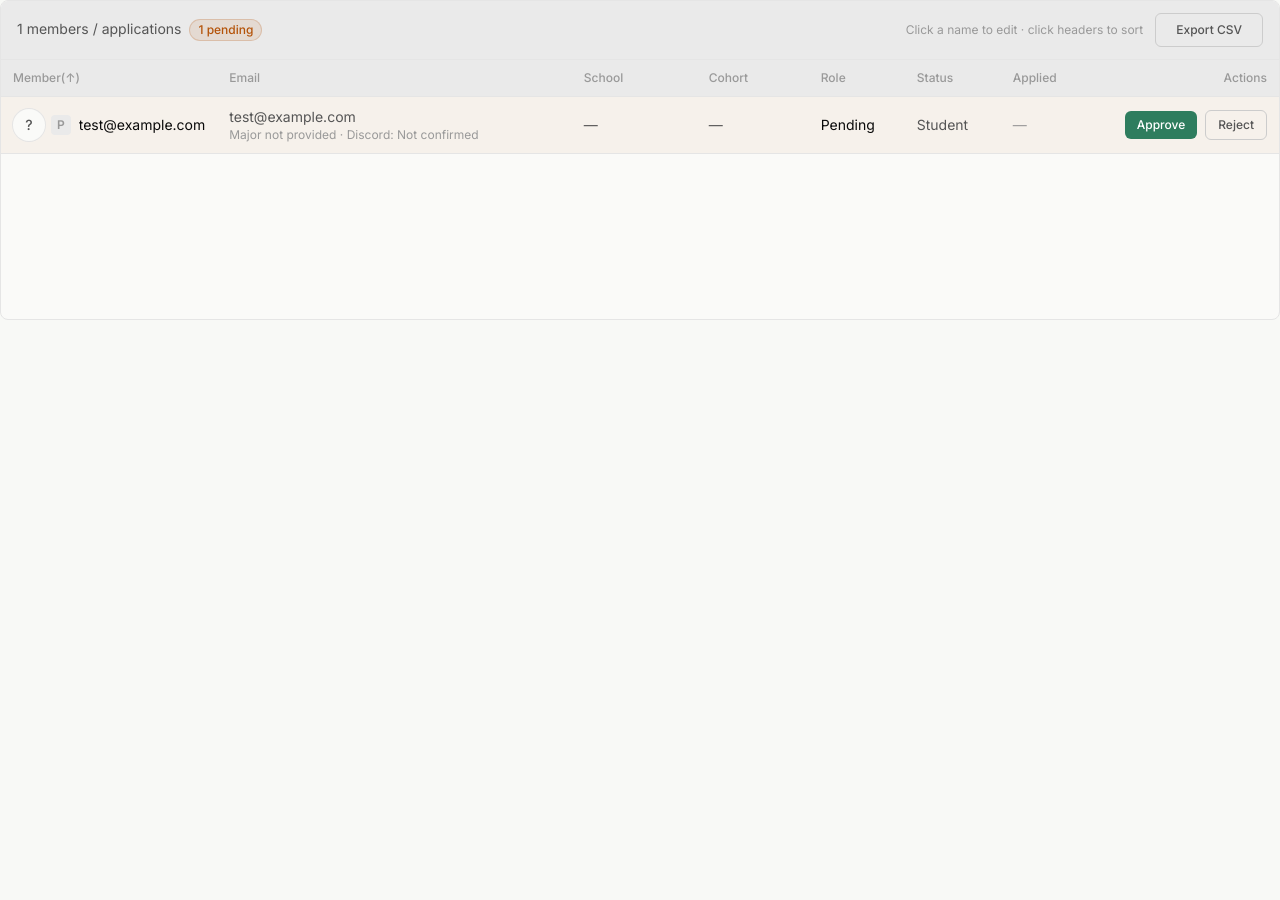
Test: rejection requires a reason and keeps it available when saving fails
Click the button "Reject": (1236, 125) [1205,110,1267,140]
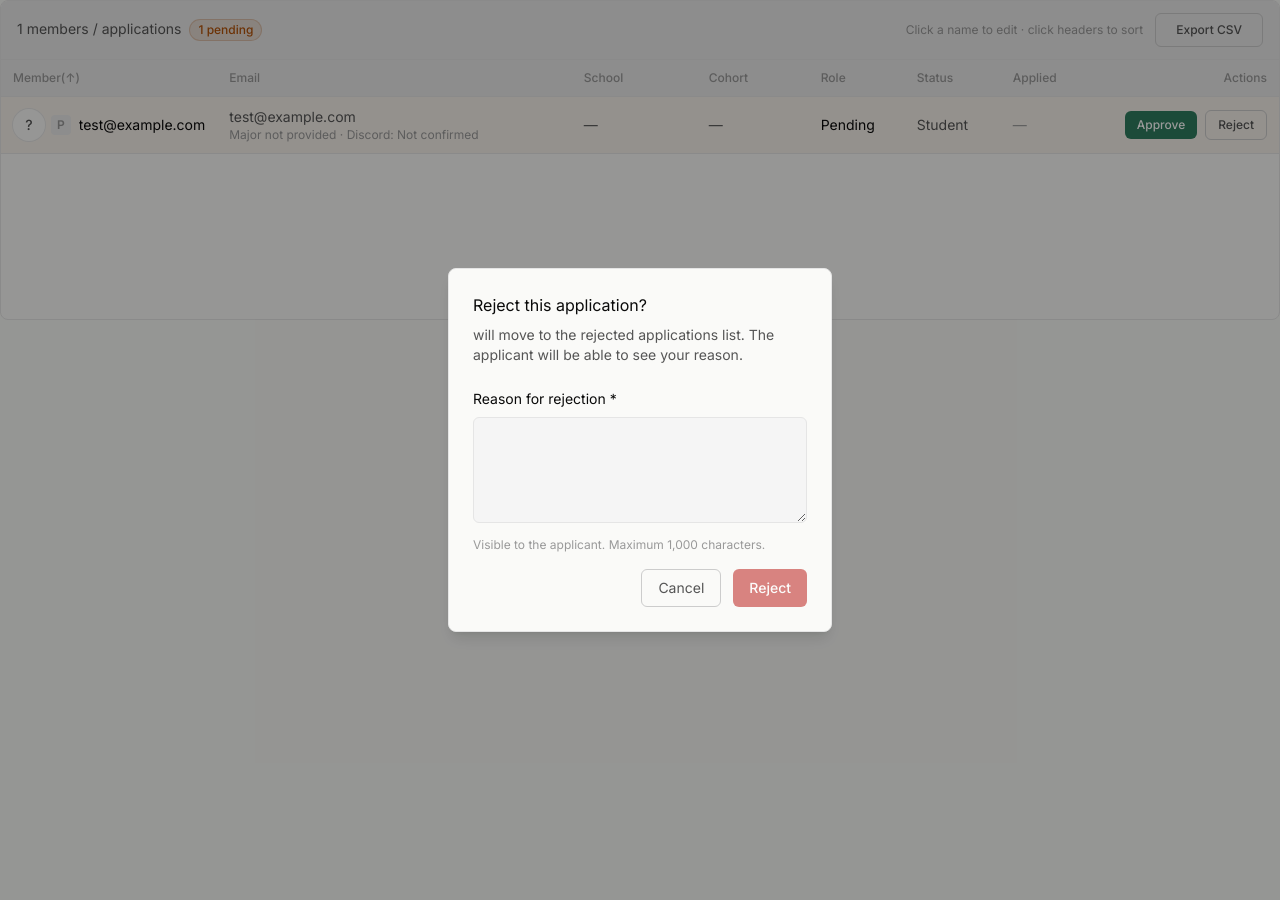
Now the button "Reject" is disabled, box [733,569,807,607]
In the text box labelled "Reason for rejection *": (640, 470) [473,417,807,523], type "Please confirm your campus."
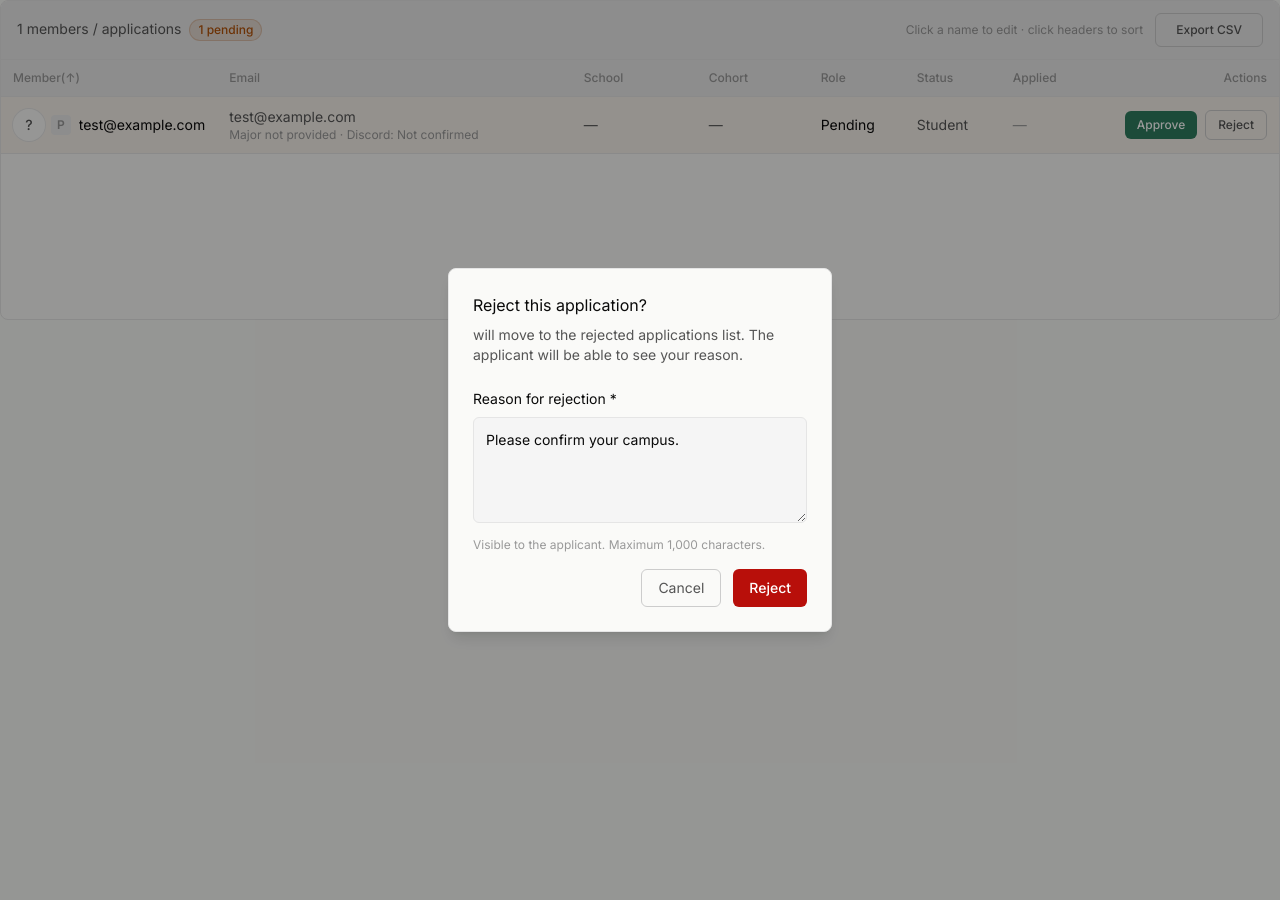
Click the button "Reject": (770, 588) [733,569,807,607]
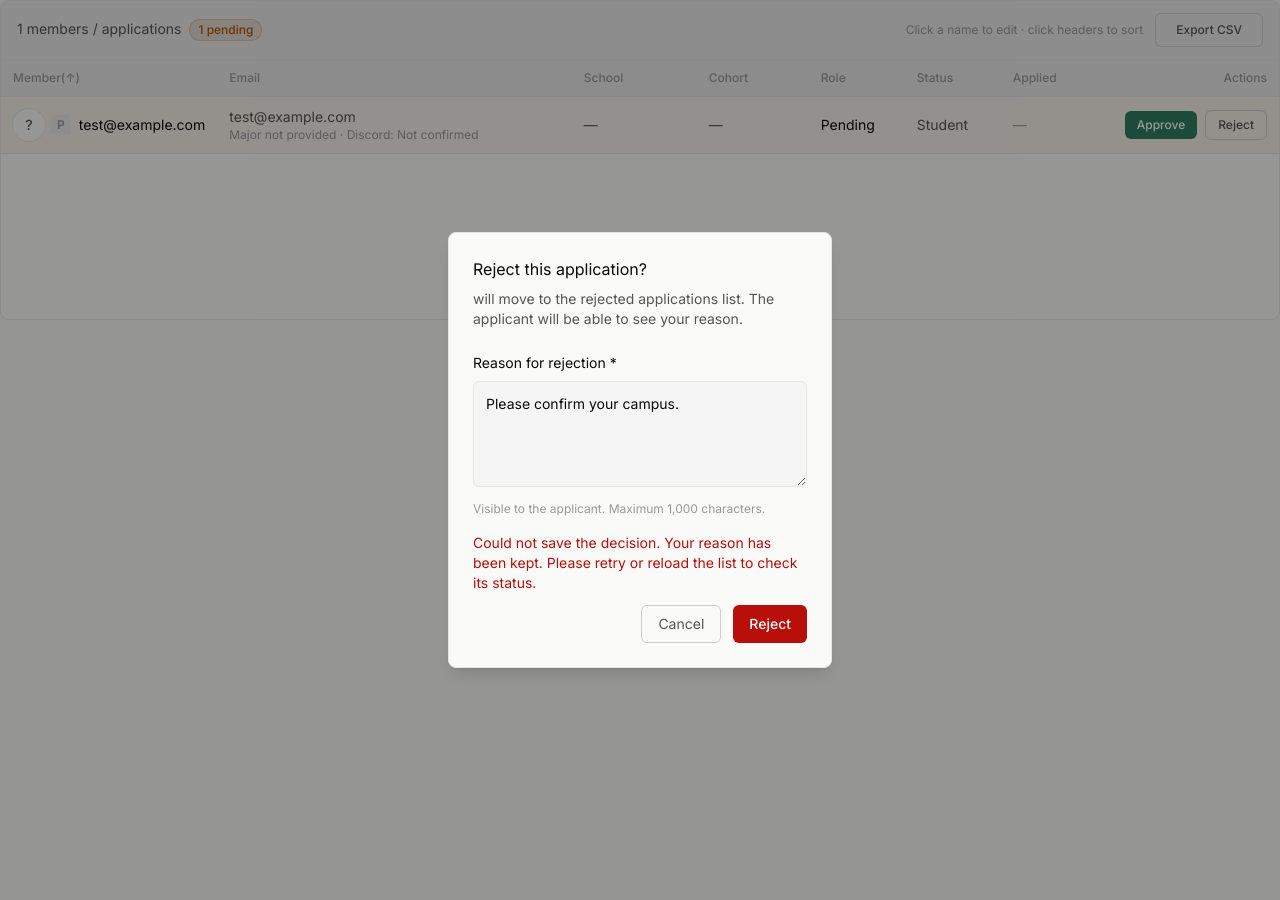
Now the message is shown, box [473,533,807,593]
Click the button "Reject": (770, 624) [733,605,807,643]
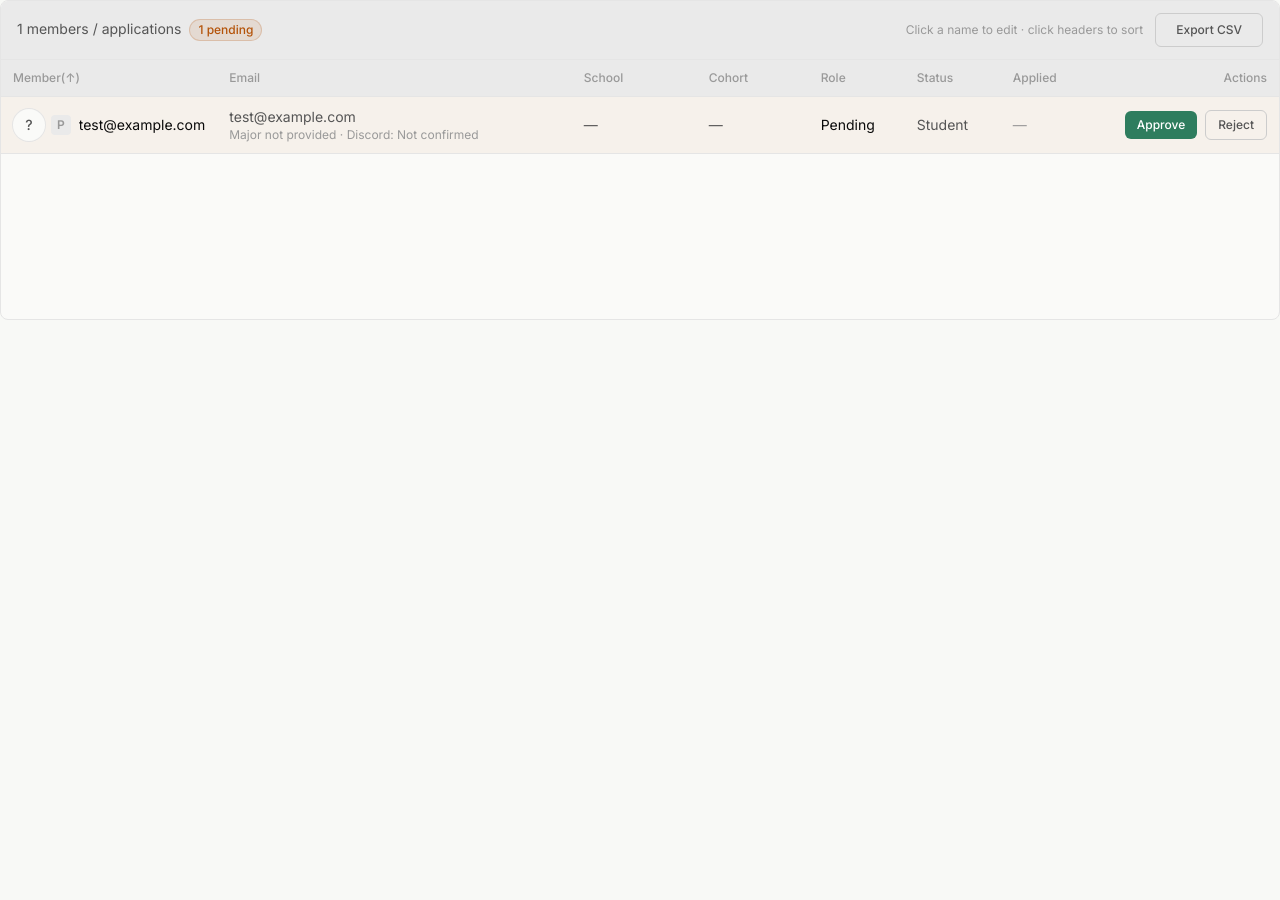
Now the dialog is gone
